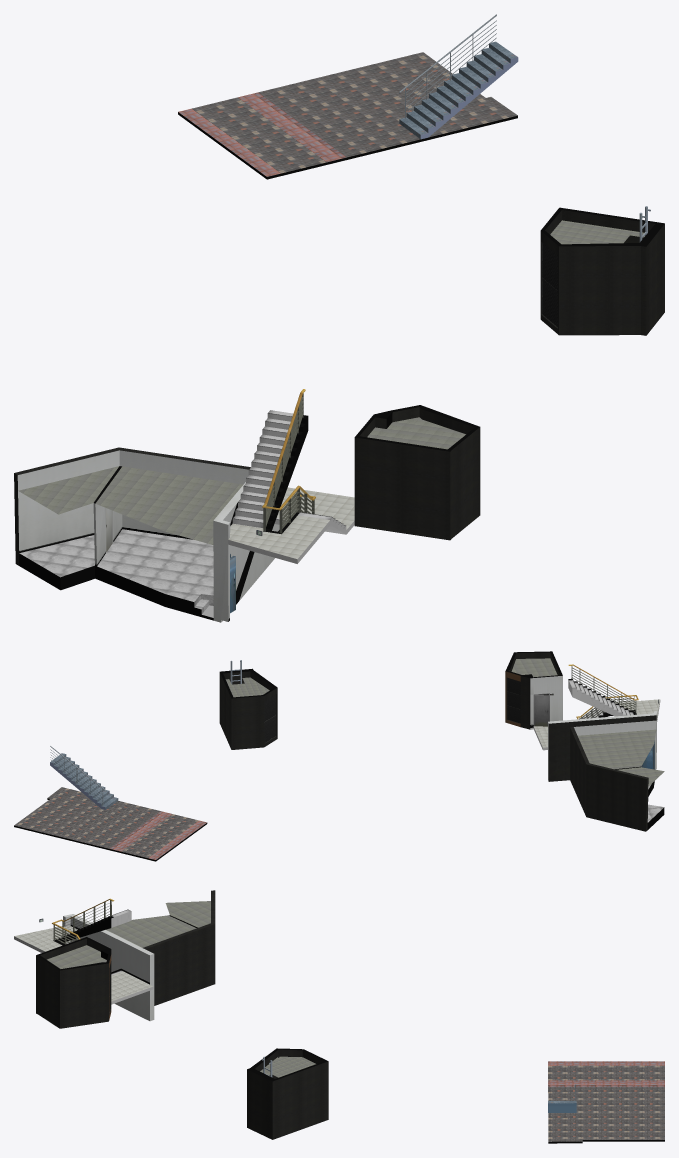
File: 2_FM1_창녕문화예술회관.fbx
3 views of the same model, one above another, from view 1: azimuth 30°, elevation 25°; view 2: azimuth 150°, elevation 25°; view 3: azimuth 270°, elevation 25° (orthographic). The views are drawn at different scales.
Visible parts, largest first — view 1: 바닥_콘-M_B0010000000CUFEBOFM1FM1_ISFL_0000003, 벽_콘-M_B0010000000CUFEBOFM1FM1_ISWL_0000004, 벽_콘-M_B0010000000CUFEBOFM1FM1_ISWL_0000003, 바닥_콘-M_B0010000000CUFEBOFM1FM1_ISFL_0000004, 천정_콘-M_B0010000000CUFEBOFM1FM1_ISCL_0000004, 계단_콘-M_B0010000000CUFEBOFM1F02_MVFC_0100002, 벽_콘-M_B0010000000CUFEBOFM1FM1_ISWL_0000001, 펜스_철-M_B0010000000CUFEBOFM1F02_MVFC_0500001, 계단_콘-M_B0010000000CUFEBOFM1F02_MVFC_0100001, 벽_콘-M_B0010000000CUFEBOFM1FM1_ISWL_0000005, 천정_콘-M_B0010000000CUFEBOFM1FM1_ISCL_0000003, 천정_콘-M_B0010000000CUFEBOFM1FM1_ISCL_0000001 (+1 smaller); view 2: 바닥_콘-M_B0010000000CUFEBOFM1FM1_ISFL_0000003, 벽_콘-M_B0010000000CUFEBOFM1FM1_ISWL_0000001, 벽_콘-M_B0010000000CUFEBOFM1FM1_ISWL_0000003, 벽_콘-M_B0010000000CUFEBOFM1FM1_ISWL_0000005, 천정_콘-M_B0010000000CUFEBOFM1FM1_ISCL_0000004, 펜스_철-M_B0010000000CUFEBOFM1F02_MVFC_0500001, 벽_콘-M_B0010000000CUFEBOFM1FM1_ISWL_0000004, 계단_콘-M_B0010000000CUFEBOFM1F02_MVFC_0100002, 계단_콘-M_B0010000000CUFEBOFM1F02_MVFC_0100001, 문_철-M_B0010000000CUFEBOFM1FM1_ISDR_0000001, 천정_콘-M_B0010000000CUFEBOFM1FM1_ISCL_0000003, 천정_콘-M_B0010000000CUFEBOFM1FM1_ISCL_0000001 (+1 smaller); view 3: 바닥_콘-M_B0010000000CUFEBOFM1FM1_ISFL_0000003, 벽_콘-M_B0010000000CUFEBOFM1FM1_ISWL_0000003, 벽_콘-M_B0010000000CUFEBOFM1FM1_ISWL_0000004, 벽_콘-M_B0010000000CUFEBOFM1FM1_ISWL_0000001, 벽_콘-M_B0010000000CUFEBOFM1FM1_ISWL_0000005, 천정_콘-M_B0010000000CUFEBOFM1FM1_ISCL_0000004, 계단_콘-M_B0010000000CUFEBOFM1F02_MVFC_0100002, 펜스_철-M_B0010000000CUFEBOFM1F02_MVFC_0500001, 천정_콘-M_B0010000000CUFEBOFM1FM1_ISCL_0000003, 천정_콘-M_B0010000000CUFEBOFM1FM1_ISCL_0000001.
Part boxes in pixels (x1,y1,x2,y2): 바닥_콘-M_B0010000000CUFEBOFM1FM1_ISFL_0000003: (178,52,517,179); 벽_콘-M_B0010000000CUFEBOFM1FM1_ISWL_0000004: (354,405,480,540); 벽_콘-M_B0010000000CUFEBOFM1FM1_ISWL_0000003: (540,207,664,335); 바닥_콘-M_B0010000000CUFEBOFM1FM1_ISFL_0000004: (19,529,213,620); 천정_콘-M_B0010000000CUFEBOFM1FM1_ISCL_0000004: (18,466,242,544); 계단_콘-M_B0010000000CUFEBOFM1F02_MVFC_0100002: (228,410,354,563); 벽_콘-M_B0010000000CUFEBOFM1FM1_ISWL_0000001: (14,447,250,565); 펜스_철-M_B0010000000CUFEBOFM1F02_MVFC_0500001: (262,14,557,533); 계단_콘-M_B0010000000CUFEBOFM1F02_MVFC_0100001: (399,41,518,139); 벽_콘-M_B0010000000CUFEBOFM1FM1_ISWL_0000005: (213,482,279,622); 천정_콘-M_B0010000000CUFEBOFM1FM1_ISCL_0000003: (367,417,465,449); 천정_콘-M_B0010000000CUFEBOFM1FM1_ISCL_0000001: (550,220,644,244); 바닥_콘-M_B0010000000CUFEBOFM1FM1_ISFL_0000003: (14,787,207,861); 벽_콘-M_B0010000000CUFEBOFM1FM1_ISWL_0000001: (570,727,648,831); 벽_콘-M_B0010000000CUFEBOFM1FM1_ISWL_0000003: (219,668,277,749); 벽_콘-M_B0010000000CUFEBOFM1FM1_ISWL_0000005: (548,711,657,781); 천정_콘-M_B0010000000CUFEBOFM1FM1_ISCL_0000004: (578,729,664,786); 펜스_철-M_B0010000000CUFEBOFM1F02_MVFC_0500001: (50,664,638,805); 벽_콘-M_B0010000000CUFEBOFM1FM1_ISWL_0000004: (505,651,562,729); 계단_콘-M_B0010000000CUFEBOFM1F02_MVFC_0100002: (533,678,660,750); 계단_콘-M_B0010000000CUFEBOFM1F02_MVFC_0100001: (50,753,118,809); 문_철-M_B0010000000CUFEBOFM1FM1_ISDR_0000001: (533,693,654,769); 천정_콘-M_B0010000000CUFEBOFM1FM1_ISCL_0000003: (511,658,557,677); 천정_콘-M_B0010000000CUFEBOFM1FM1_ISCL_0000001: (225,677,269,697); 바닥_콘-M_B0010000000CUFEBOFM1FM1_ISFL_0000003: (548,1061,664,1143); 벽_콘-M_B0010000000CUFEBOFM1FM1_ISWL_0000003: (247,1048,328,1139); 벽_콘-M_B0010000000CUFEBOFM1FM1_ISWL_0000004: (36,937,111,1028); 벽_콘-M_B0010000000CUFEBOFM1FM1_ISWL_0000001: (143,890,215,1005); 벽_콘-M_B0010000000CUFEBOFM1FM1_ISWL_0000005: (63,914,154,1021); 천정_콘-M_B0010000000CUFEBOFM1FM1_ISCL_0000004: (106,901,210,947); 계단_콘-M_B0010000000CUFEBOFM1F02_MVFC_0100002: (14,909,153,1004); 펜스_철-M_B0010000000CUFEBOFM1F02_MVFC_0500001: (52,898,575,1100); 천정_콘-M_B0010000000CUFEBOFM1FM1_ISCL_0000003: (47,945,106,968); 천정_콘-M_B0010000000CUFEBOFM1FM1_ISCL_0000001: (260,1056,315,1077).
Bounding box in the file's own units: 30.36 × 6.89 × 34.38.
Materials: 22 (20 with a texture image).
